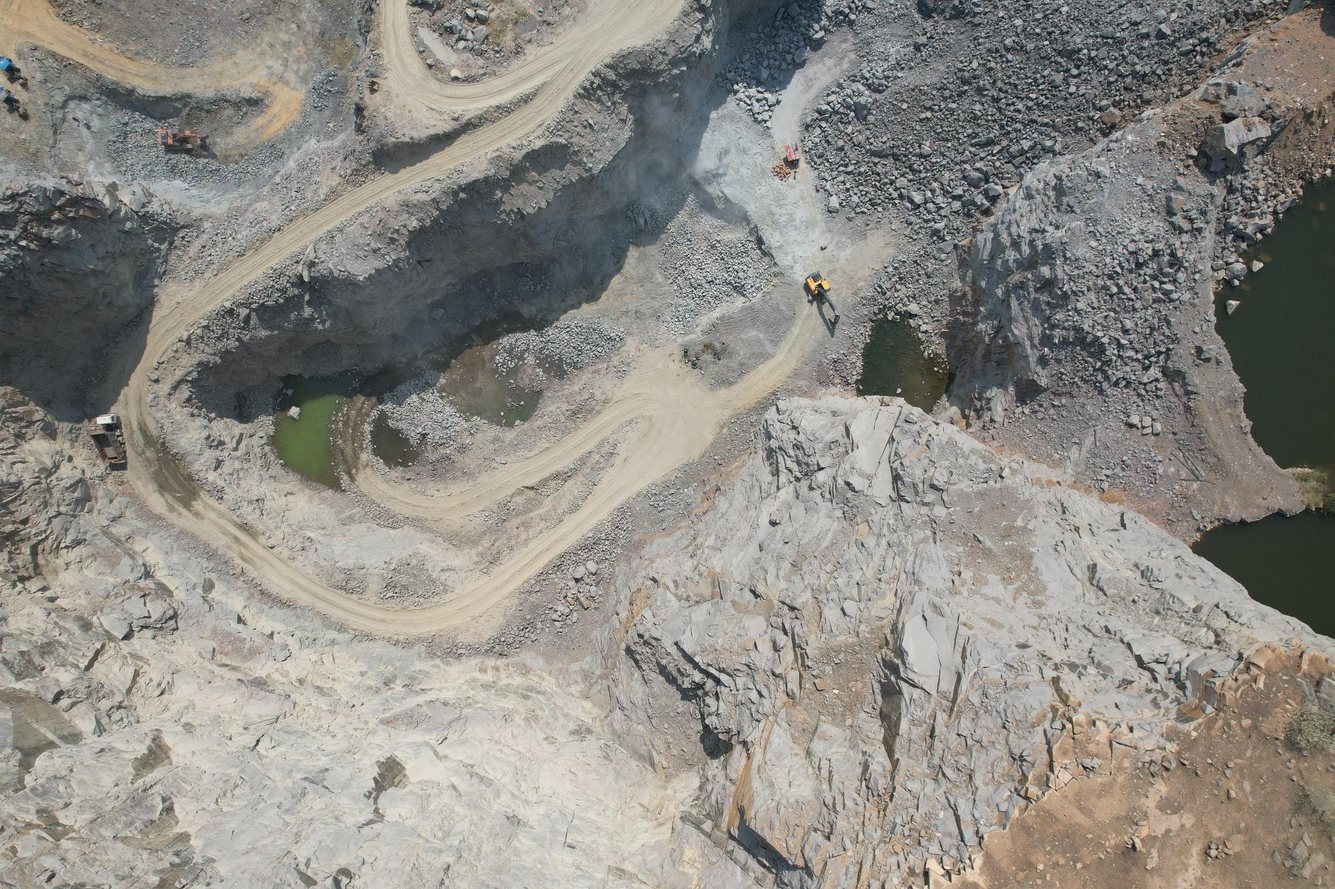benches: (113, 0, 791, 636), (486, 383, 678, 492), (0, 0, 201, 85)
excavator: (803, 269, 848, 338)
truck: (94, 410, 136, 471)
